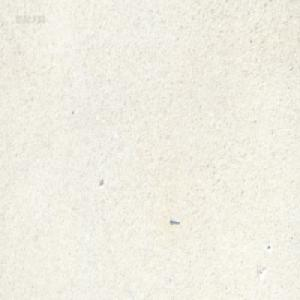Nail: (169, 217, 180, 225)
